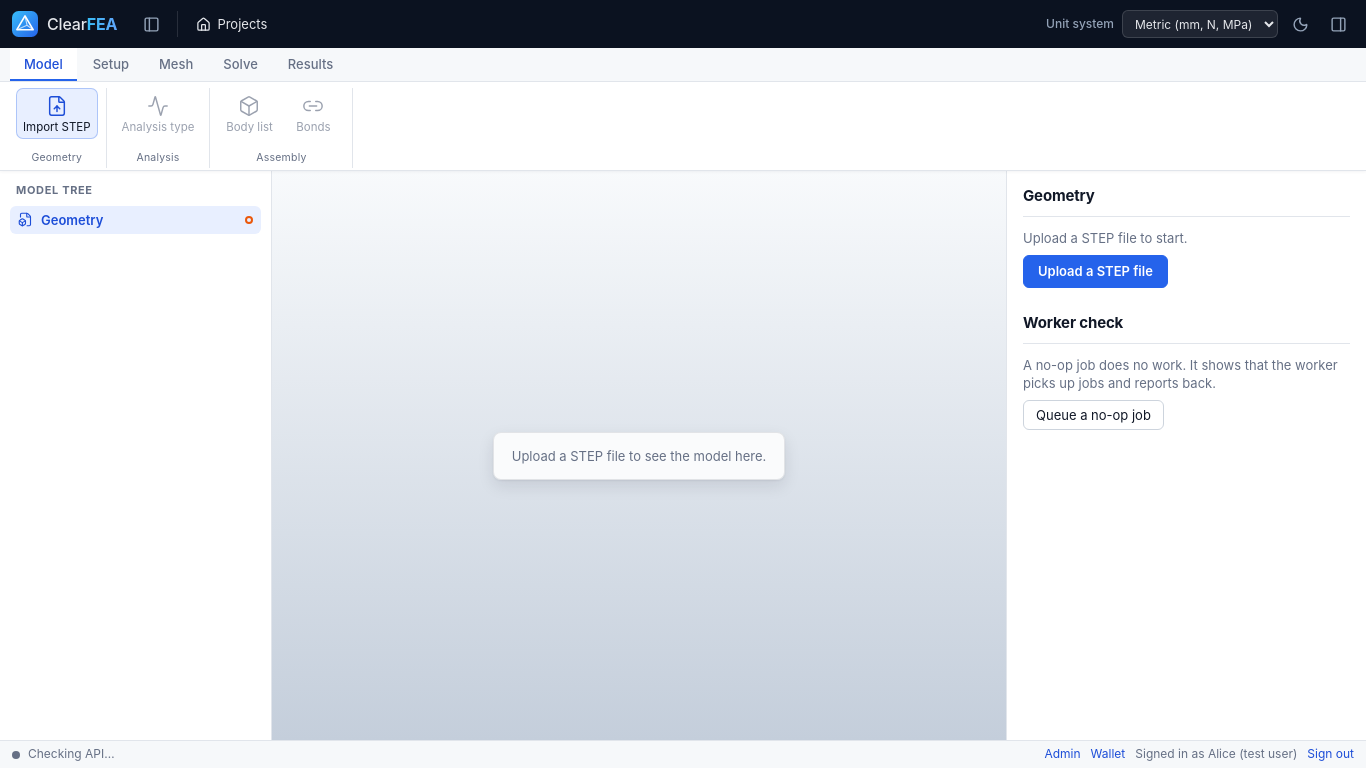
Test: admin page (M10.3) › shows a setting in its unit and saves it in stored units, or says why it was refused (M13.3)
Step 1. Click the button "Admin" → (1063, 754), box top-left (1044, 746), bottom-right (1081, 763)
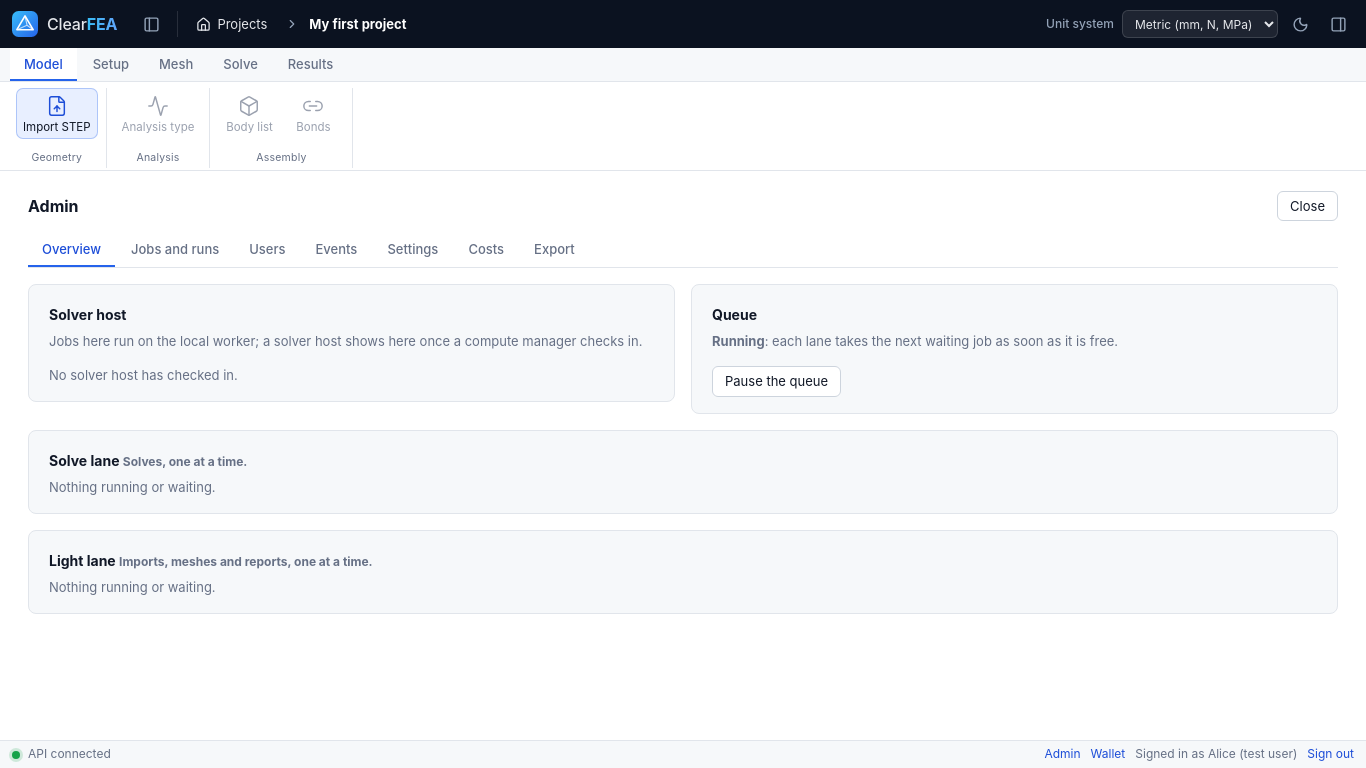
Step 2. Click the tab "Settings" → (413, 250), box top-left (373, 233), bottom-right (452, 267)
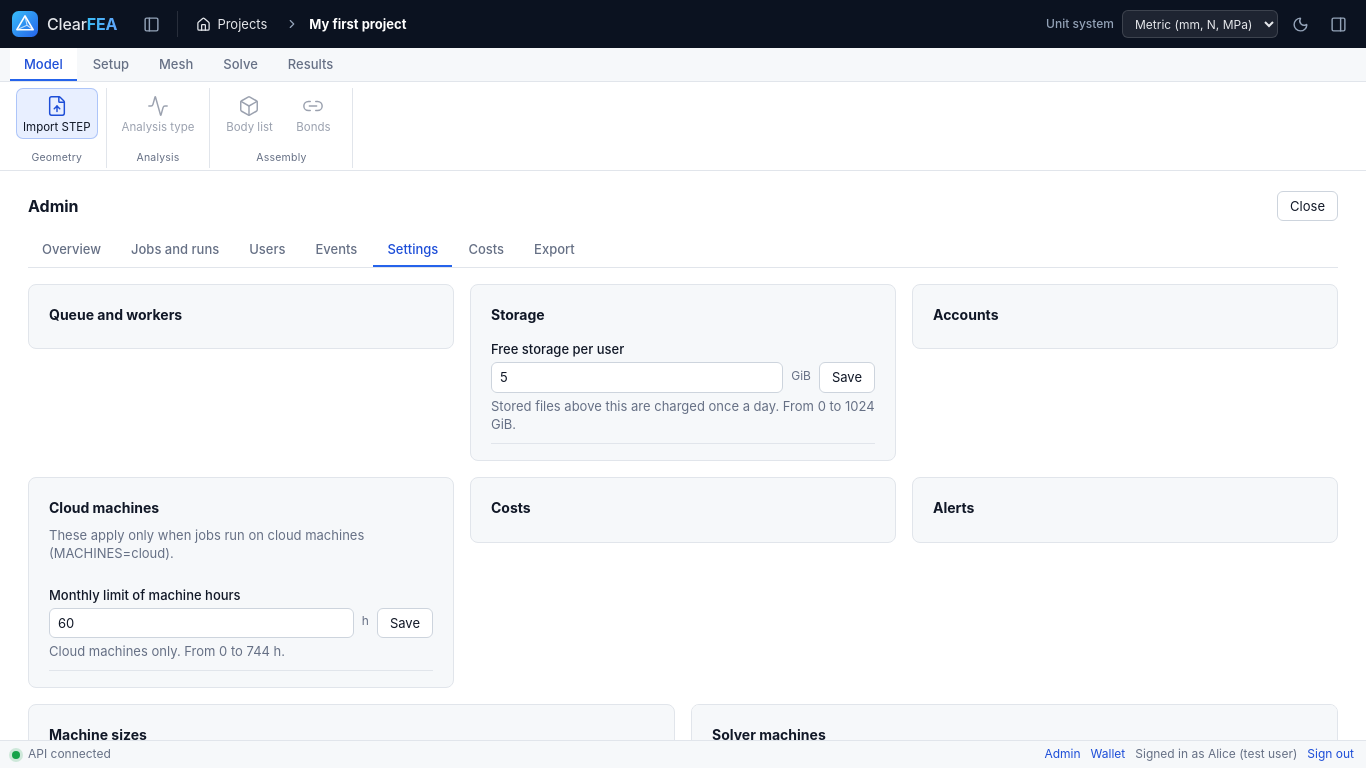
Now the field labelled "Free storage per user" holds "5"
Now the text "GiB" is shown, box top-left (791, 368), bottom-right (811, 392)
Step 3. Replace the text in the field labelled "Free storage per user" with "2000.5" → (637, 377), box top-left (491, 362), bottom-right (783, 392)
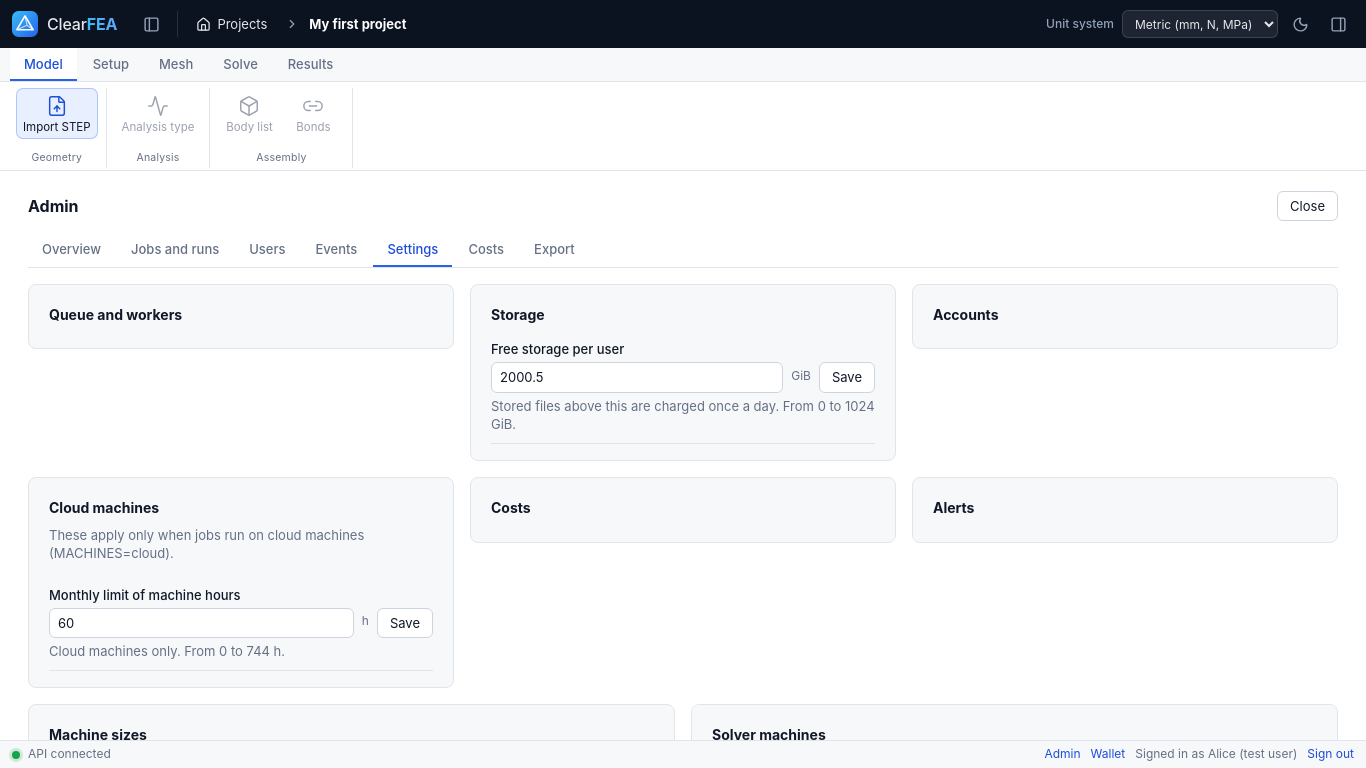
Step 4. Click the button with aria-label "Save Free storage per user" → (847, 377), box top-left (819, 362), bottom-right (875, 392)
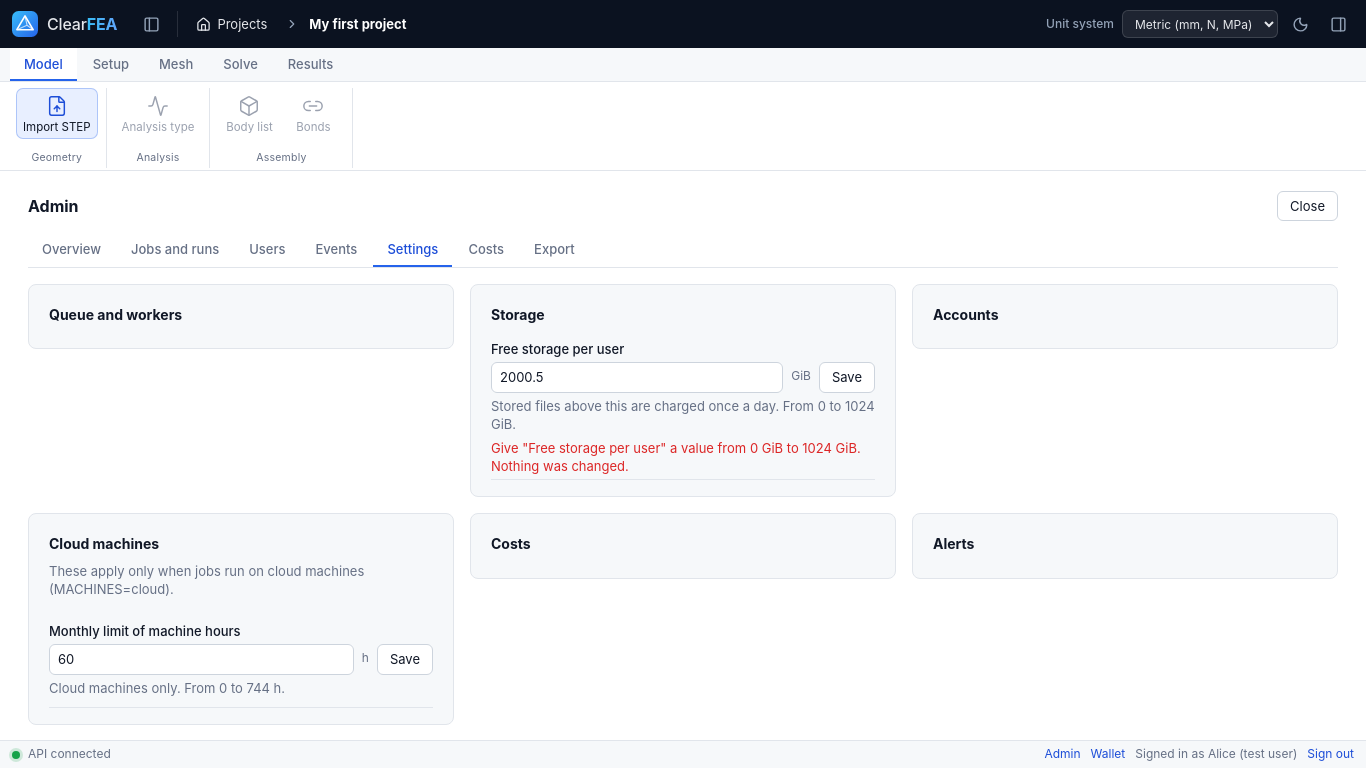
Now the 1st message shows "from 0 GiB to 1024 GiB", box top-left (491, 440), bottom-right (861, 474)
